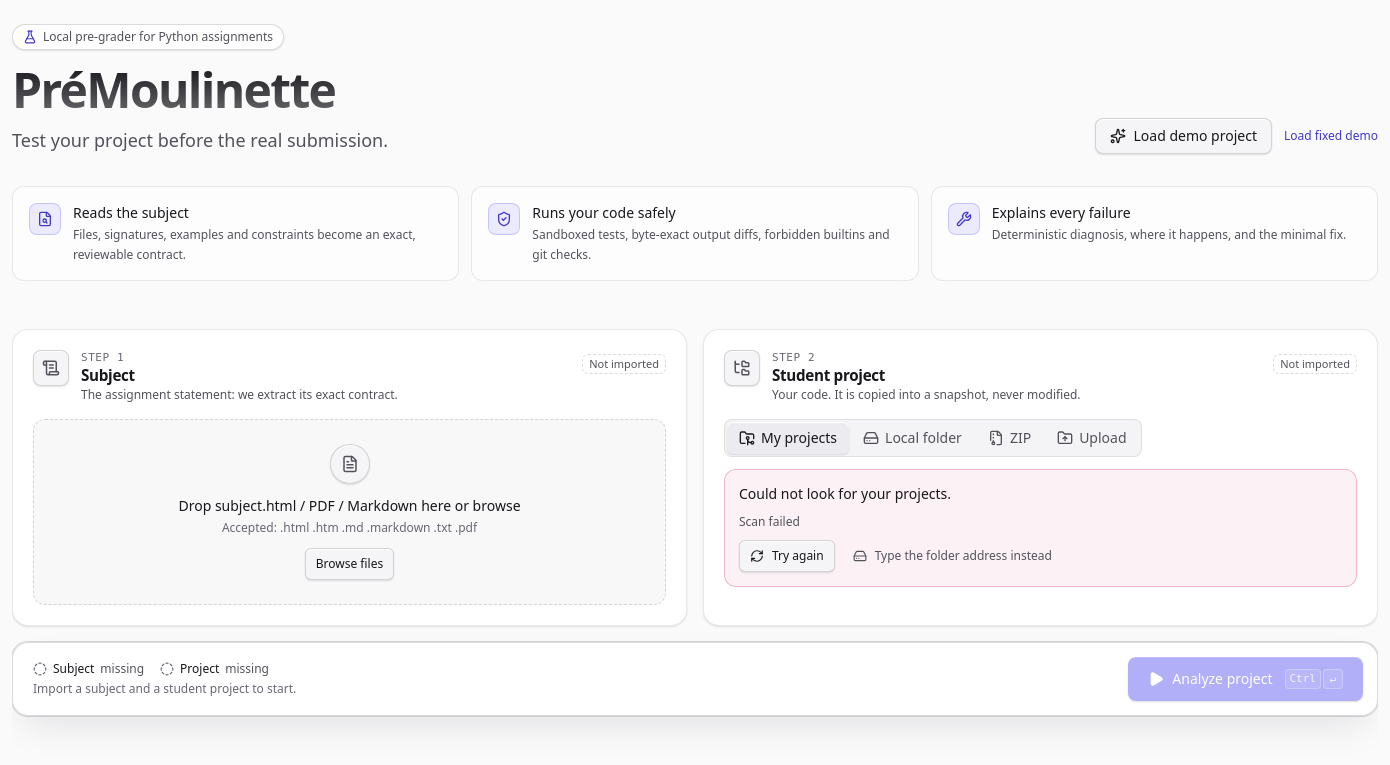
Test: My projects tab › reports a failed search and retries with refresh=1
expect the text "Could not look for your projects." is shown: met, box top-left (739, 484), bottom-right (951, 504)
Click the button "Try again" at (787, 556), box top-left (739, 540), bottom-right (835, 572)
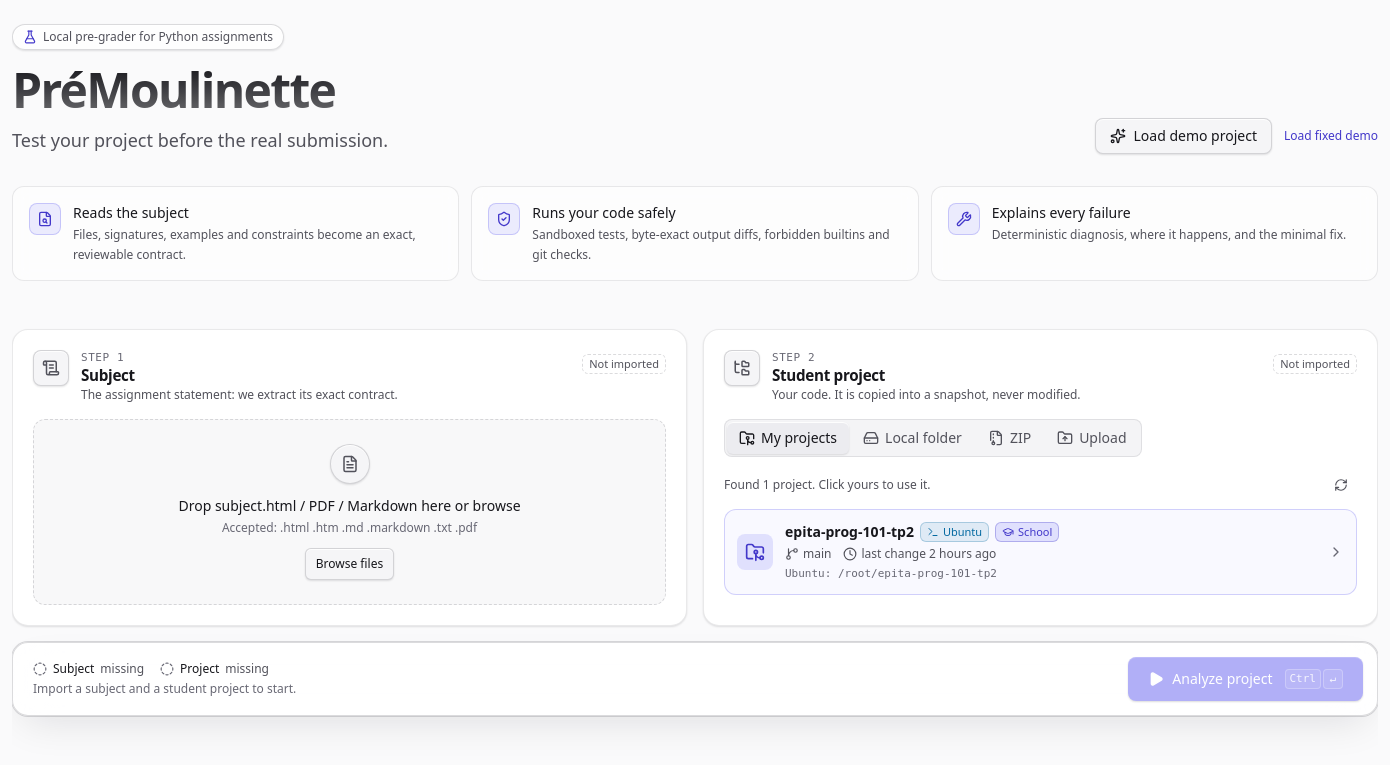
expect the button "epita-prog-101-tp2" is shown: met, box top-left (724, 509), bottom-right (1357, 595)
